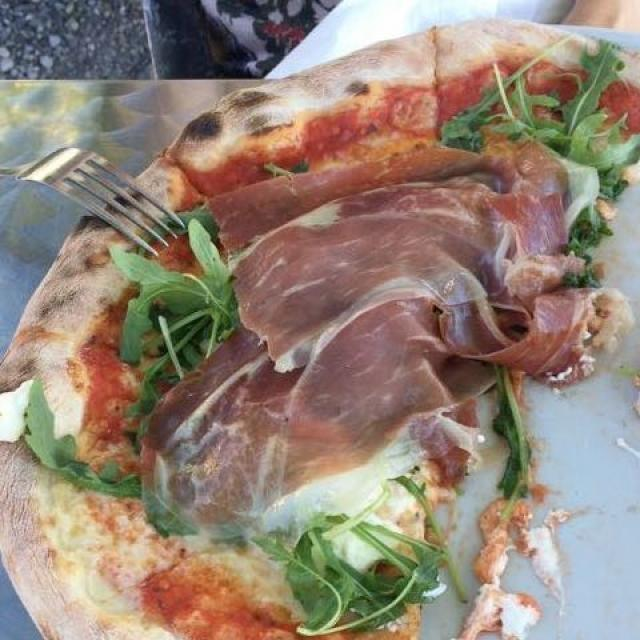ham: (146, 146, 594, 590)
